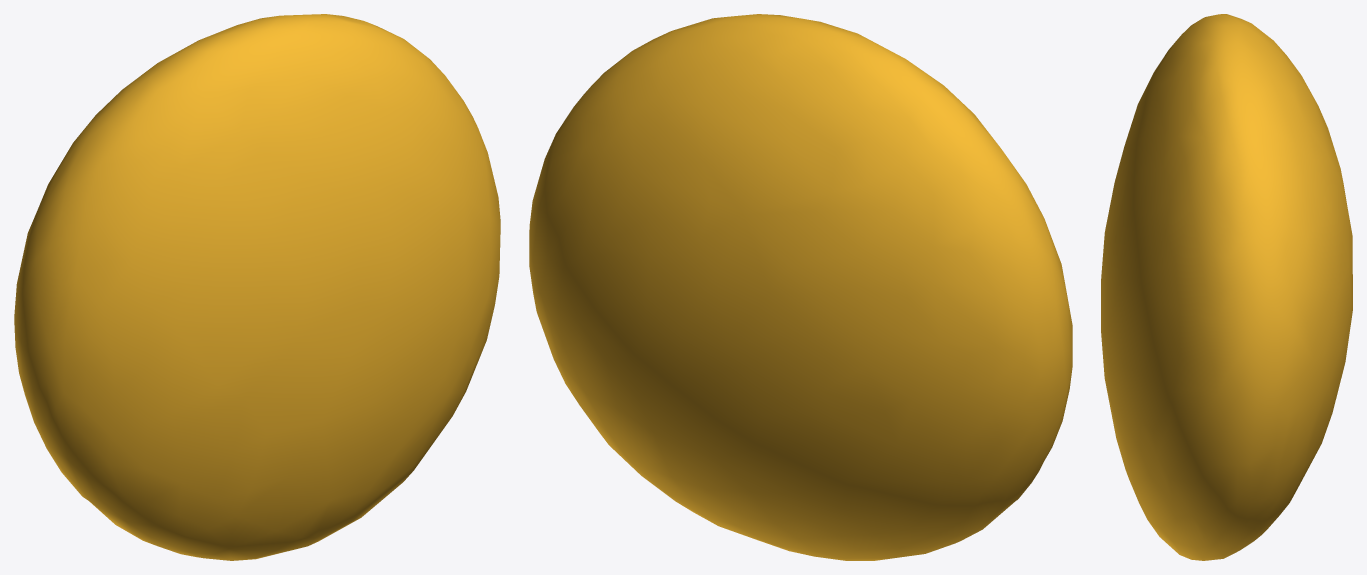
Rendered from nervoso-lens-l.glb.
3 views of the same model, side by side, from view 1: azimuth 30°, elevation 25°; view 2: azimuth 150°, elevation 25°; view 3: azimuth 270°, elevation 25° (orthographic). The views are drawn at different scales.
Visible parts, largest first — view 1: Lens.l; view 2: Lens.l; view 3: Lens.l.
Part boxes in pixels (x1,y1,x2,y2): Lens.l: [14, 14, 500, 560]; Lens.l: [529, 14, 1072, 560]; Lens.l: [1101, 14, 1352, 560].
Size of the model in its own units: 0.0103 by 0.0104 by 0.00479.
